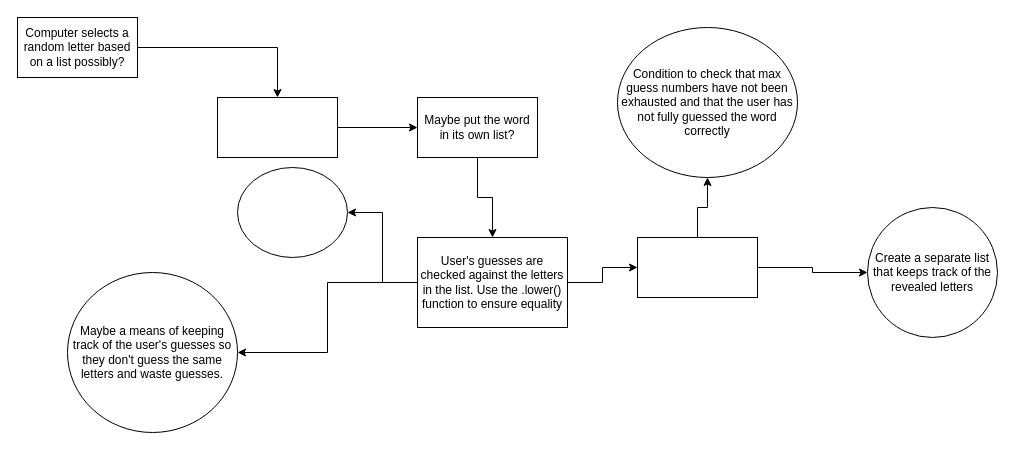
This 1015x450 diagram has some shape labels left out. Here are the shapes that lost their labels. From the top down, the centre of each, then its label:
At [277,127]: "Computer tells the user the length of the word".
At [292,212]: "Keep track of the number of guesses the user has used".
At [697,267]: "If correct, reveal the letter positioning to the player".
